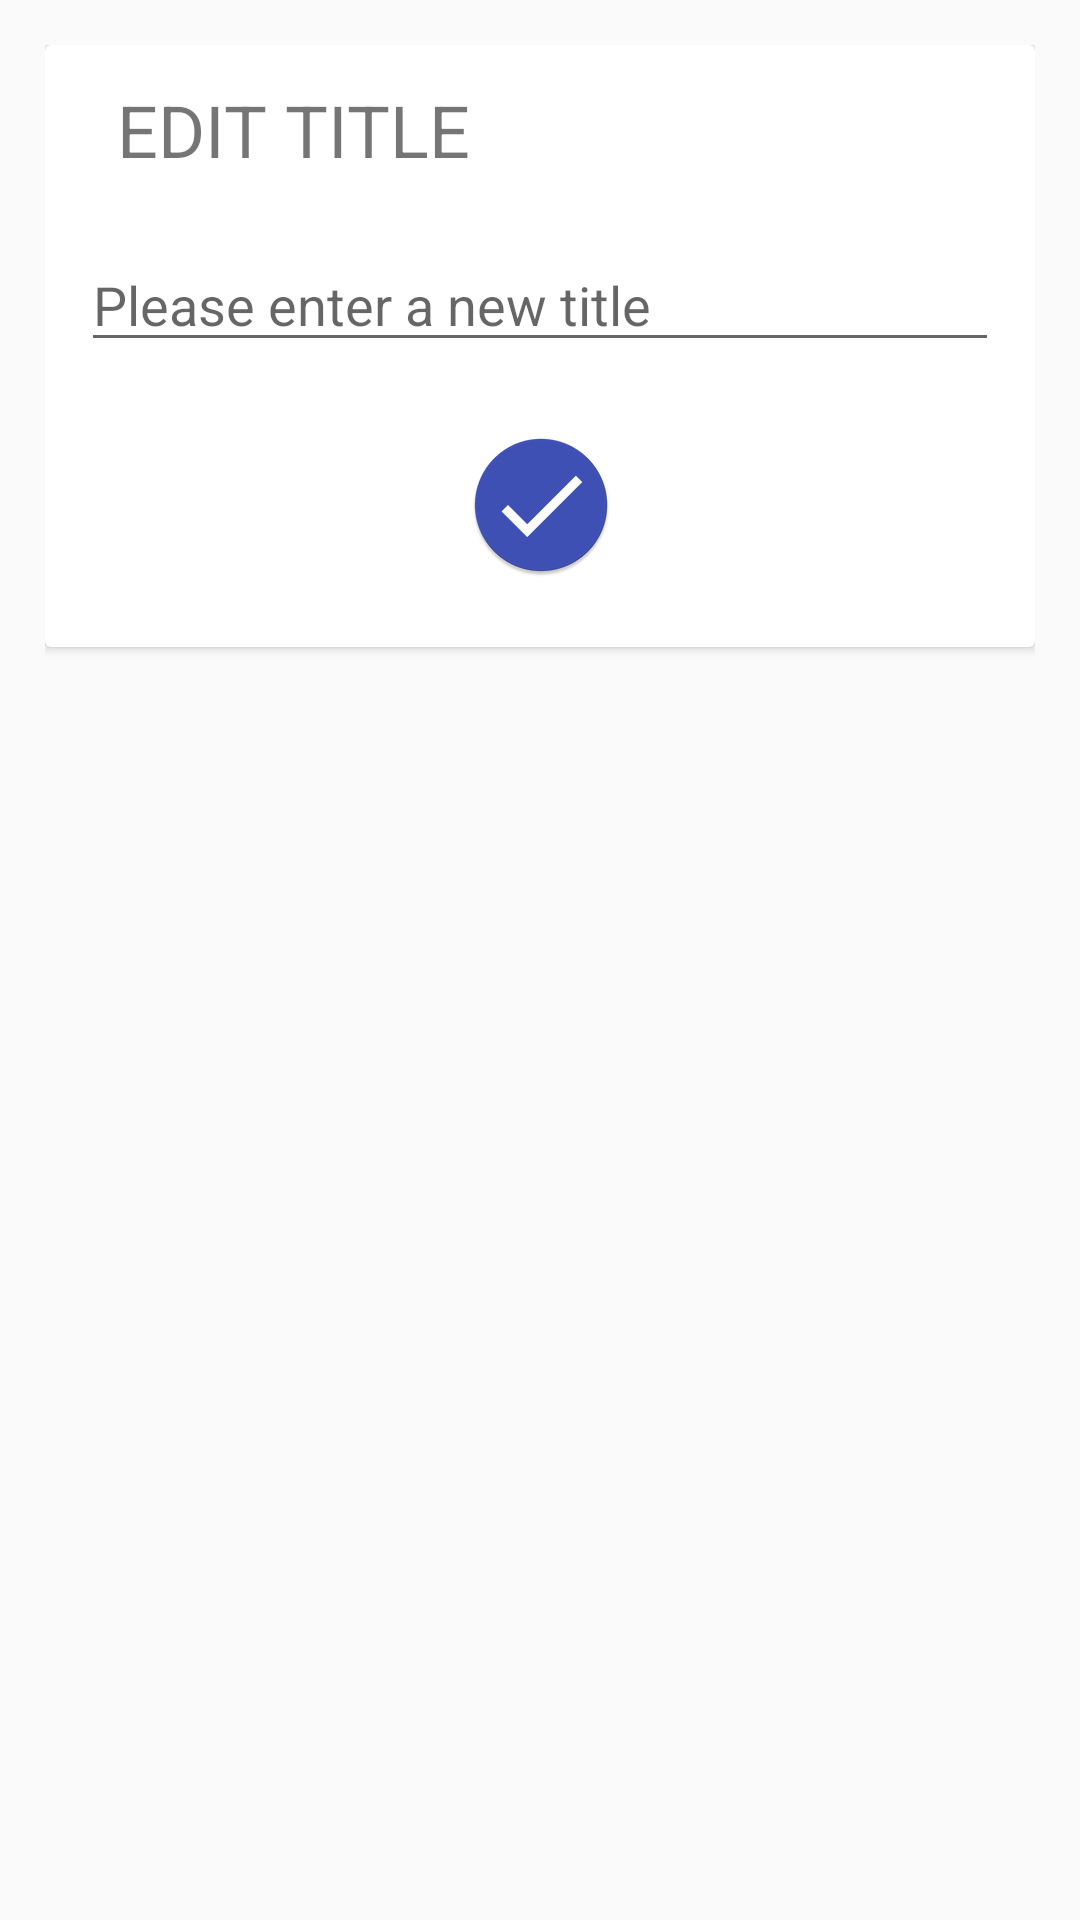

Screen size 1080×1920. Icon name, then its box in pixels as (x1, y1, x2, y2):
savebtn: (474, 438, 608, 574)
